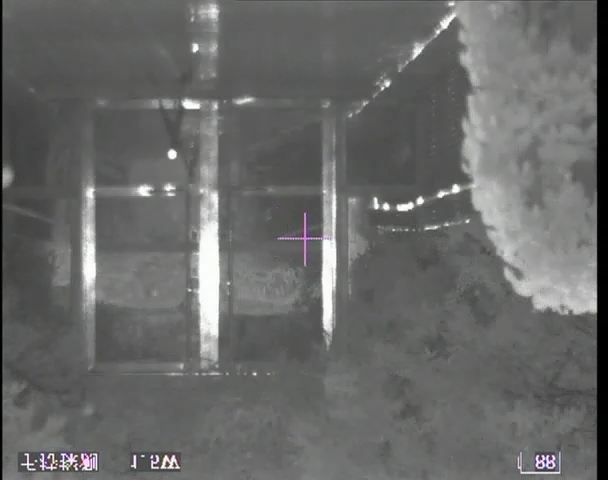my: (166, 148, 178, 161)
